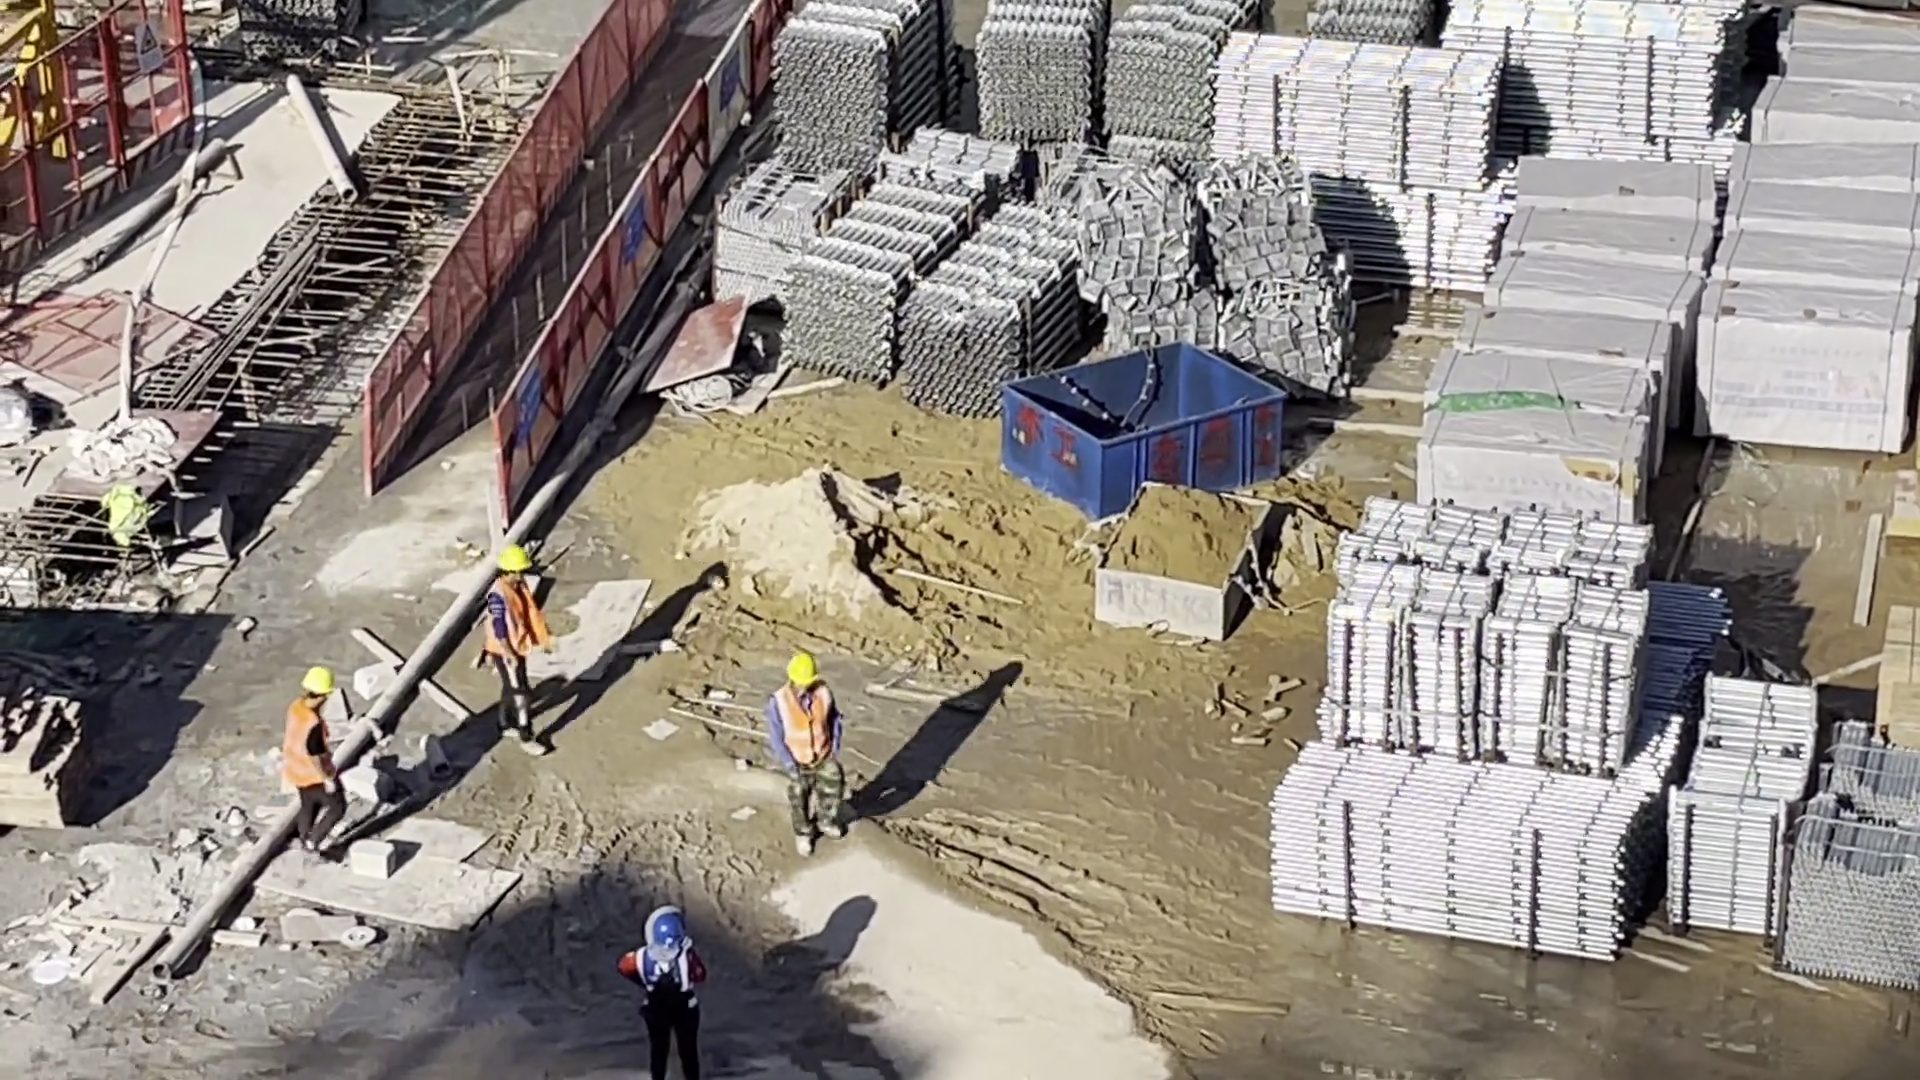board: (1877, 607, 1916, 751)
fence: (371, 1, 785, 491)
helmet: (300, 663, 336, 696), (655, 917, 686, 950), (787, 654, 818, 684), (497, 548, 534, 570)
hopper: (1002, 342, 1283, 519), (1098, 484, 1267, 642)
person: (485, 546, 551, 756), (628, 911, 703, 1080), (781, 658, 843, 854), (292, 665, 348, 854)
scaffold: (1331, 506, 1648, 766), (1202, 24, 1496, 293), (1278, 746, 1651, 956), (783, 172, 1073, 400), (977, 3, 1261, 146), (1447, 3, 1728, 137), (1662, 680, 1805, 935), (1774, 731, 1920, 980), (775, 1, 956, 184), (1298, 1, 1446, 51)
slogan: (515, 360, 539, 434), (619, 196, 644, 266)
vest: (777, 684, 832, 773), (486, 577, 546, 660), (286, 707, 333, 787), (638, 946, 693, 1001)
